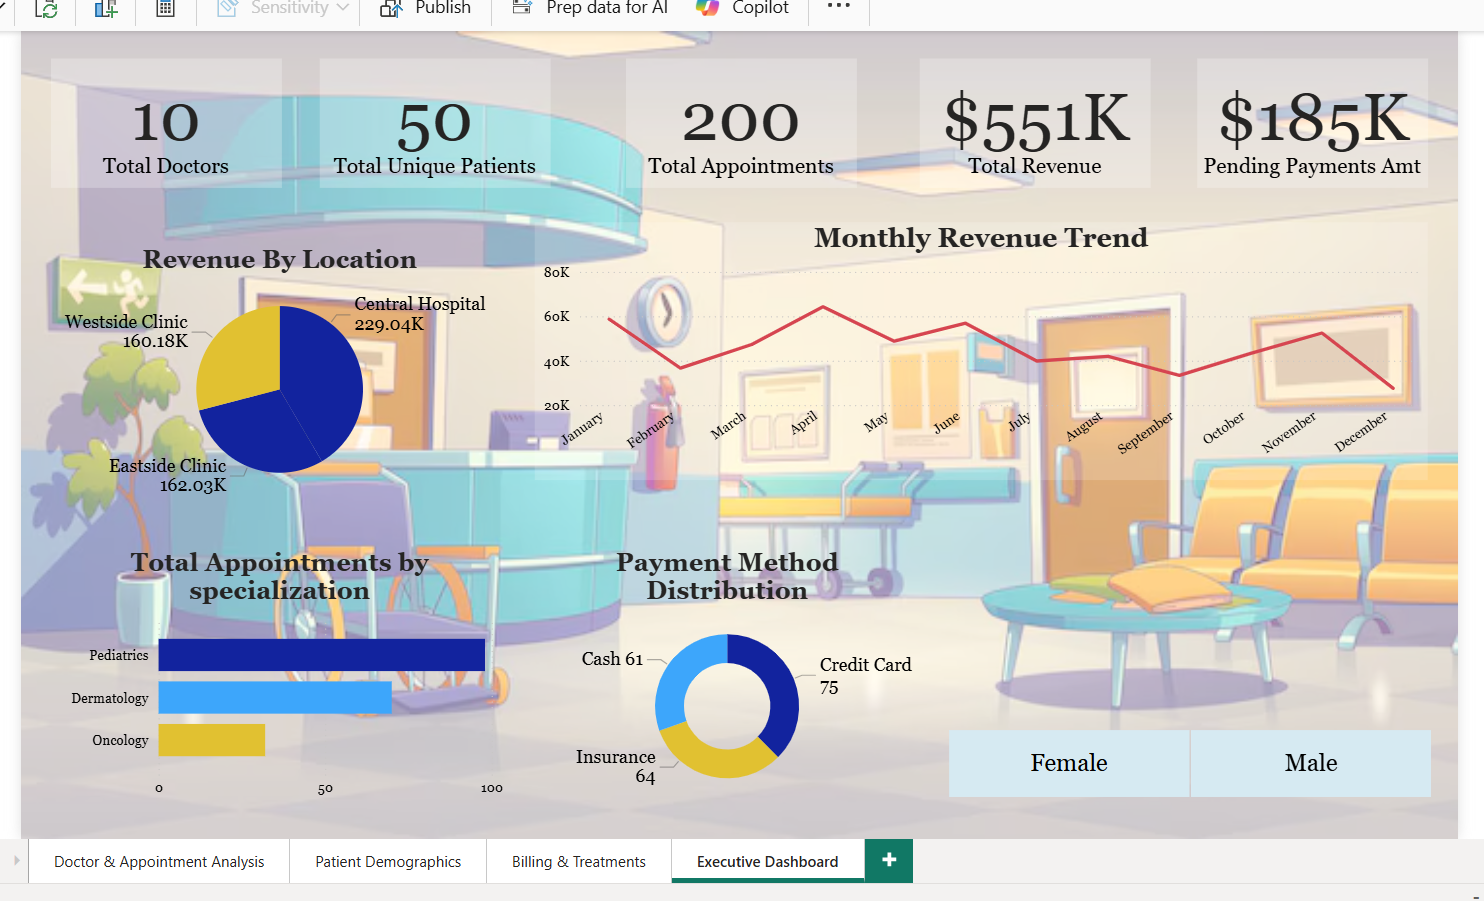

The page's visual inventory and layout, read from the dashboard file:
{"tool":"powerbi","page":{"name":"Executive Dashboard","canvas":[1280,720],"ordinal":3},"visuals":[{"type":"card","fields":{"Values":["Measure.Total Doctors"]},"box":[27.3,24.4,205.2,114.8],"z":0},{"type":"card","fields":{"Values":["Measure.Total Unique Patients"]},"box":[265.5,24.4,205.2,114.8],"z":1000},{"type":"card","fields":{"Values":["Measure.Total Appointments"]},"box":[538.2,24.4,205.2,114.8],"z":2000},{"type":"card","fields":{"Values":["Measure.Total Revenue"]},"box":[800.9,24.4,205.2,114.8],"z":3000},{"type":"card","fields":{"Values":["Measure.Pending Payments Amt"]},"box":[1047.8,24.4,205.2,114.8],"z":4000},{"type":"lineChart","title":"Monthly Revenue Trend","fields":{"Category":["billing.bill_date.Variation.Date Hierarchy.Year","billing.bill_date.Variation.Date Hierarchy.Quarter","billing.bill_date.Variation.Date Hierarchy.Month","billing.bill_date.Variation.Date Hierarchy.Day"],"Y":["Measure.Total Revenue"]},"box":[457.9,170.8,795.2,229.6],"z":5000},{"type":"pieChart","title":"Revenue By Location","fields":{"Category":["doctors.hospital_branch"],"Y":["Measure.Total Revenue"]},"box":[27.3,190.9,407.6,229.6],"z":6000},{"type":"barChart","fields":{"Category":["doctors.specialization"],"Y":["Measure.Total Appointments"]},"box":[27.3,459.3,407.6,229.6],"z":7000},{"type":"donutChart","title":"Payment Method Distribution","fields":{"Category":["billing.payment_method"],"Y":["CountNonNull(billing.bill_id)"]},"box":[457.9,459.3,343,229.6],"z":8000},{"type":"slicer","fields":{"Values":["patients.gender"]},"box":[800.9,615.7,479.4,73.2],"z":9000}]}

Visuals, with their boxes on the page's 1280x720 design canvas (x1, y1, x2, y2). These are canvas units, not pixel positions in the 1484x901 screenshot, which may show the page scaled, cropped or inside an application window:
card - Measure.Total Doctors: x1=27, y1=24, x2=232, y2=139
card - Measure.Total Unique Patients: x1=266, y1=24, x2=471, y2=139
card - Measure.Total Appointments: x1=538, y1=24, x2=743, y2=139
card - Measure.Total Revenue: x1=801, y1=24, x2=1006, y2=139
card - Measure.Pending Payments Amt: x1=1048, y1=24, x2=1253, y2=139
"Monthly Revenue Trend" lineChart: x1=458, y1=171, x2=1253, y2=400
"Revenue By Location" pieChart: x1=27, y1=191, x2=435, y2=420
barChart - doctors.specialization x Measure.Total Appointments: x1=27, y1=459, x2=435, y2=689
"Payment Method Distribution" donutChart: x1=458, y1=459, x2=801, y2=689
slicer - patients.gender: x1=801, y1=616, x2=1280, y2=689
